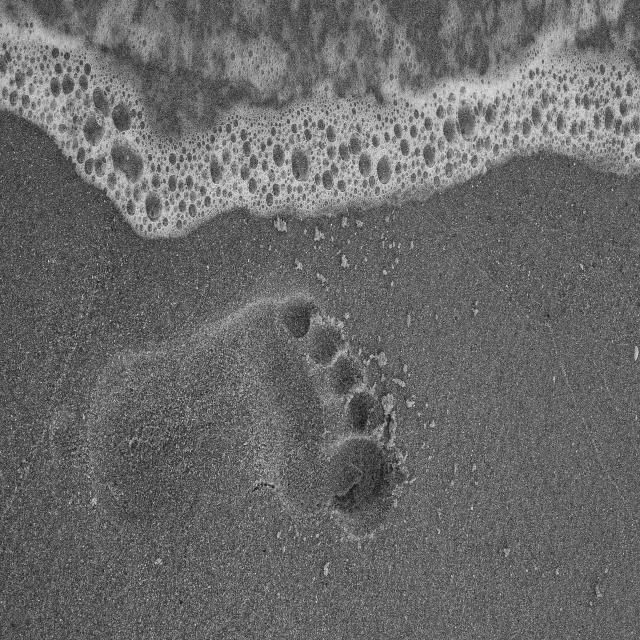human_foot_print: (56, 275, 447, 563)
